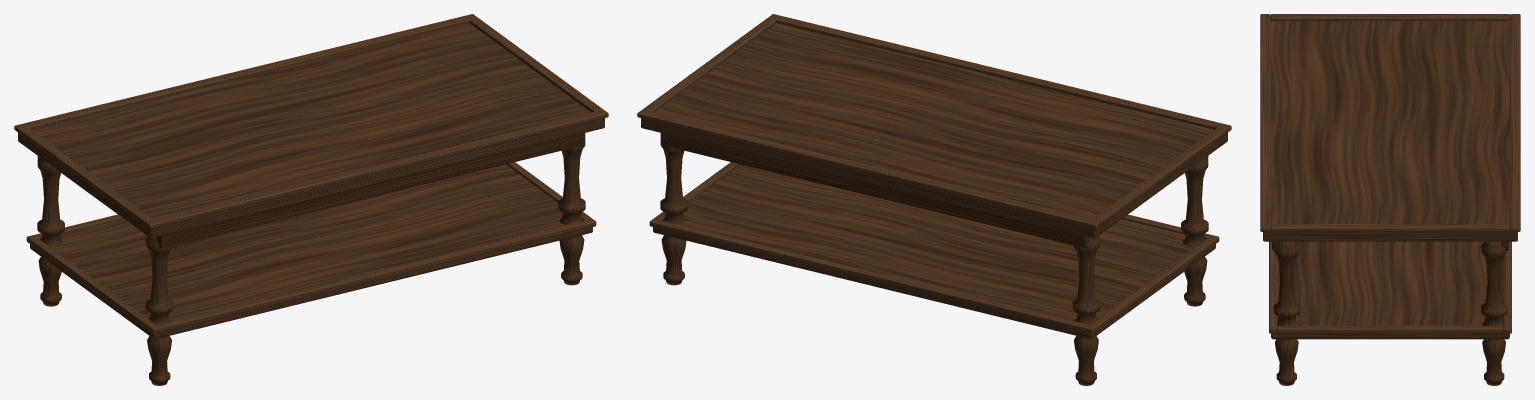
The model's file is dark_academia_mesa_centro.glb.
3 views of the same model, side by side, from view 1: azimuth 30°, elevation 25°; view 2: azimuth 150°, elevation 25°; view 3: azimuth 270°, elevation 25° (orthographic). The views are drawn at different scales.
Parts seen in each view (by area): view 1: mesa_centro; view 2: mesa_centro; view 3: mesa_centro.
Part boxes in pixels (x1=…): mesa_centro: x1=14, y1=14, x2=608, y2=385; mesa_centro: x1=637, y1=14, x2=1231, y2=385; mesa_centro: x1=1260, y1=14, x2=1520, y2=385.
Size of the model in its own units: 1.23 by 0.445 by 0.632.
Materials: 3 (3 with a texture image).
